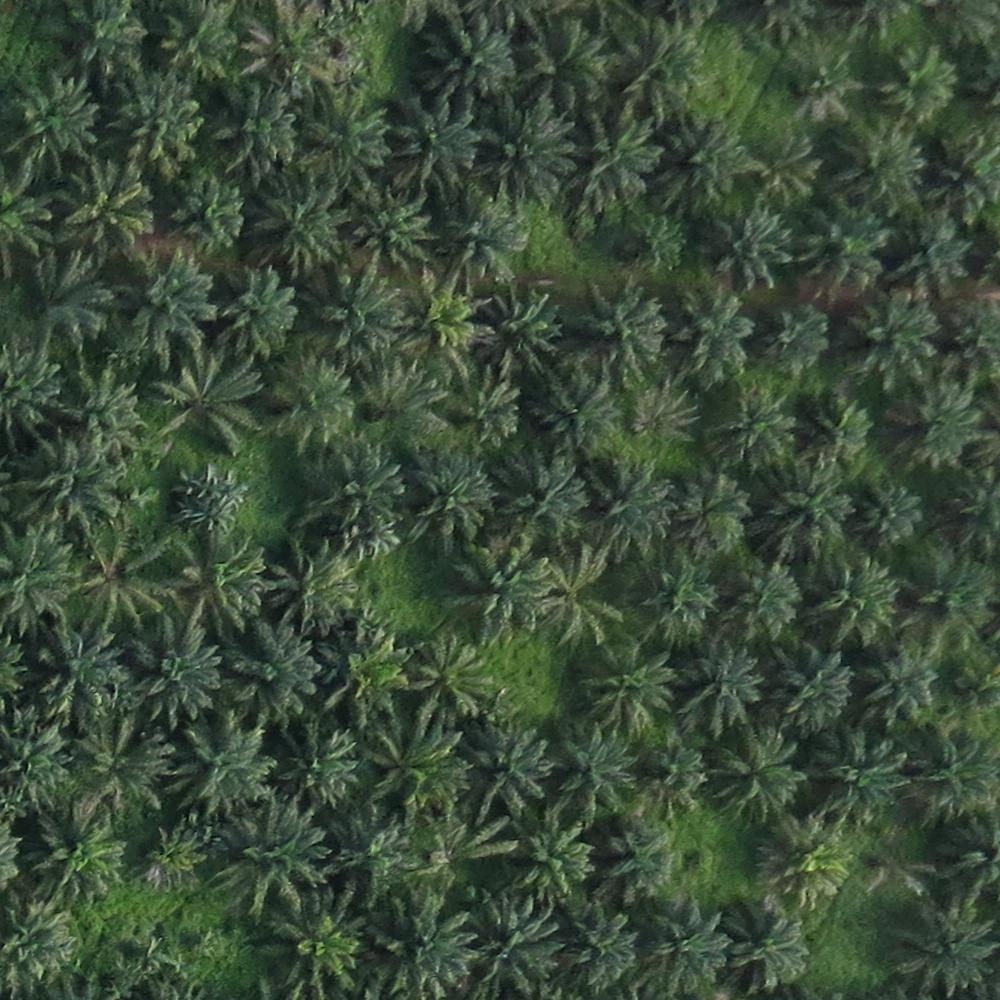Palm: (565, 272, 674, 383), (210, 810, 319, 916), (361, 893, 472, 995), (16, 421, 117, 530), (477, 101, 578, 205), (888, 900, 996, 997), (464, 886, 560, 993), (575, 639, 678, 738), (705, 725, 807, 824), (306, 266, 407, 365), (264, 895, 365, 994), (222, 625, 316, 731), (121, 251, 218, 350), (29, 624, 120, 728), (263, 538, 364, 631), (387, 94, 483, 191), (756, 814, 852, 911), (398, 265, 490, 366), (107, 76, 202, 173), (62, 156, 155, 255), (130, 622, 221, 723), (252, 168, 341, 271), (805, 730, 902, 823), (664, 288, 761, 380), (405, 443, 494, 543), (23, 248, 115, 344), (846, 296, 944, 386), (585, 458, 674, 555), (398, 630, 492, 721), (568, 111, 657, 207), (368, 730, 466, 817), (451, 546, 547, 634), (479, 282, 571, 373), (7, 77, 100, 167), (171, 726, 267, 813), (616, 22, 708, 111), (344, 182, 434, 272), (302, 85, 389, 178), (719, 905, 811, 992), (216, 266, 302, 359), (497, 446, 583, 539), (30, 810, 123, 896), (897, 380, 984, 471), (761, 470, 854, 555), (556, 898, 645, 986), (310, 448, 401, 533), (465, 727, 549, 819), (800, 211, 887, 299), (212, 77, 295, 169), (419, 15, 512, 97), (707, 210, 797, 294), (48, 4, 144, 82), (813, 561, 899, 648), (517, 22, 606, 106), (552, 739, 642, 821), (655, 118, 739, 205), (534, 368, 615, 458), (886, 215, 973, 298), (912, 732, 1000, 813), (642, 907, 730, 988), (169, 164, 252, 249), (680, 645, 762, 731), (715, 562, 805, 640), (846, 131, 930, 214), (277, 731, 362, 813), (277, 357, 352, 448), (711, 389, 796, 468), (506, 822, 599, 892), (787, 49, 864, 131), (153, 7, 234, 84), (790, 388, 870, 465), (646, 564, 722, 644), (775, 657, 855, 733), (673, 474, 748, 555), (858, 655, 946, 722), (760, 305, 837, 379), (884, 43, 962, 116), (604, 828, 679, 895), (856, 478, 925, 545), (140, 823, 206, 892)
